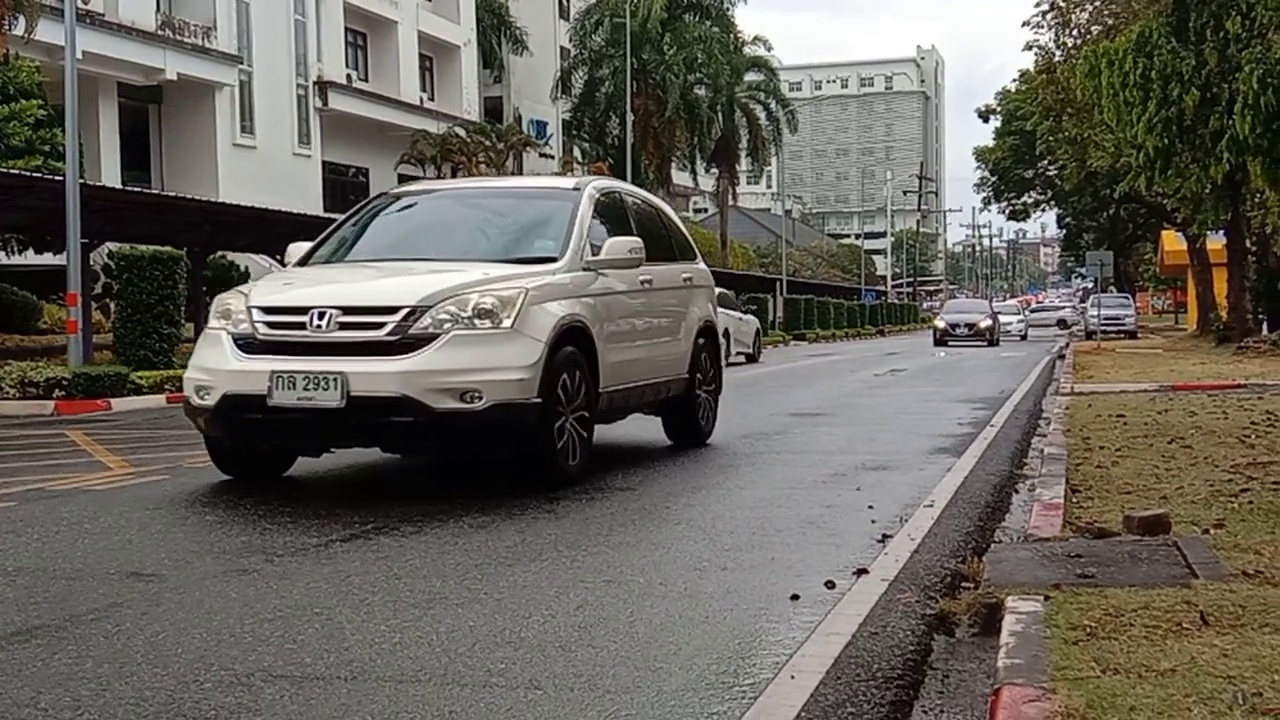License Plate: (263, 369, 346, 407)
